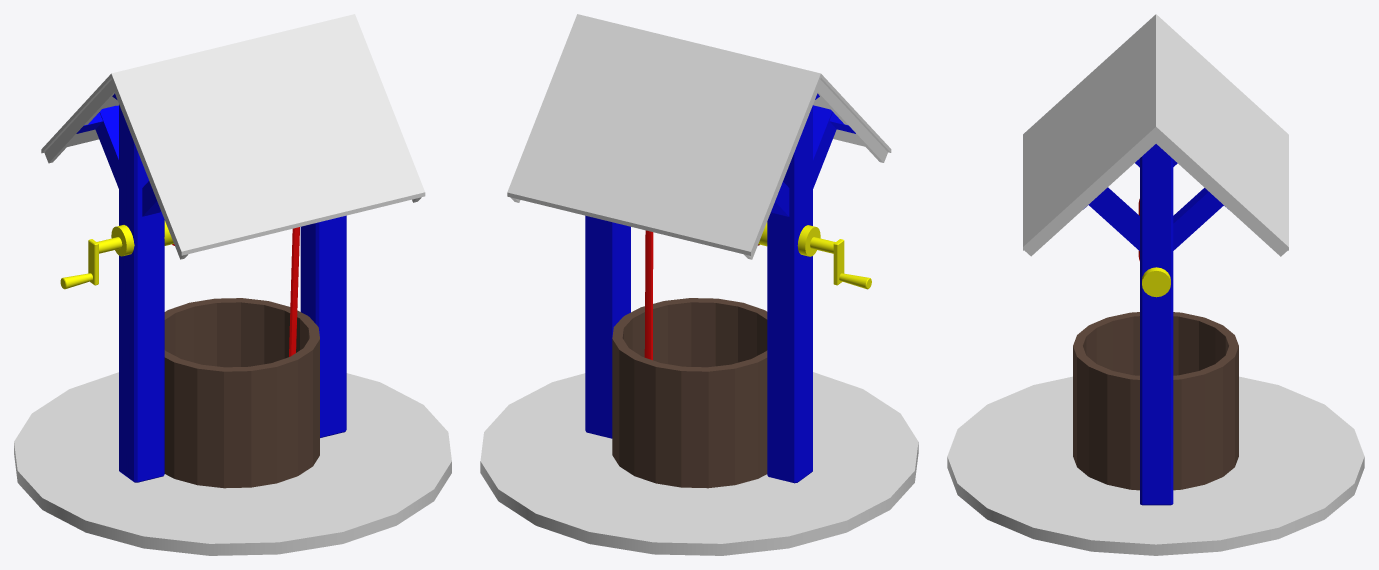
Rendered from 64070243_texture_well.fbx.
The picture shows the model from 3 angles, left to right: view 1: azimuth 30°, elevation 25°; view 2: azimuth 150°, elevation 25°; view 3: azimuth 270°, elevation 25°; orthographic projection. The views are drawn at different scales.
Parts seen in each view (by area): view 1: polySurface17, polySurface5, pCylinder2, polySurface9, polySurface18, polySurface14, pHelix1, pCylinder1; view 2: polySurface17, polySurface5, pCylinder2, polySurface9, polySurface18, polySurface13, pHelix1, pCylinder1; view 3: polySurface5, polySurface17, pCylinder2, polySurface18, polySurface6, polySurface8, pCylinder1.
Boxes of the visible parts, x1,y1,x2,y2 form: polySurface17: (41,14,425,259); polySurface5: (14,372,451,555); pCylinder2: (164,298,319,488); polySurface9: (119,104,164,482); polySurface18: (300,215,346,437); polySurface14: (95,105,118,188); pHelix1: (172,227,299,356); pCylinder1: (111,220,173,256); polySurface17: (507,14,891,259); polySurface5: (480,372,918,555); pCylinder2: (612,298,767,488); polySurface9: (767,105,812,483); polySurface18: (585,215,630,438); polySurface13: (813,106,836,188); pHelix1: (644,230,759,360); pCylinder1: (758,222,820,256); polySurface5: (947,376,1364,555); polySurface17: (1023,14,1288,256); pCylinder2: (1073,312,1238,490); polySurface18: (1140,149,1173,505); polySurface6: (1089,187,1139,250); polySurface8: (1173,188,1223,250); pCylinder1: (1142,267,1170,297).
Size of the model in its own units: 5.03 by 5.28 by 5.03.
